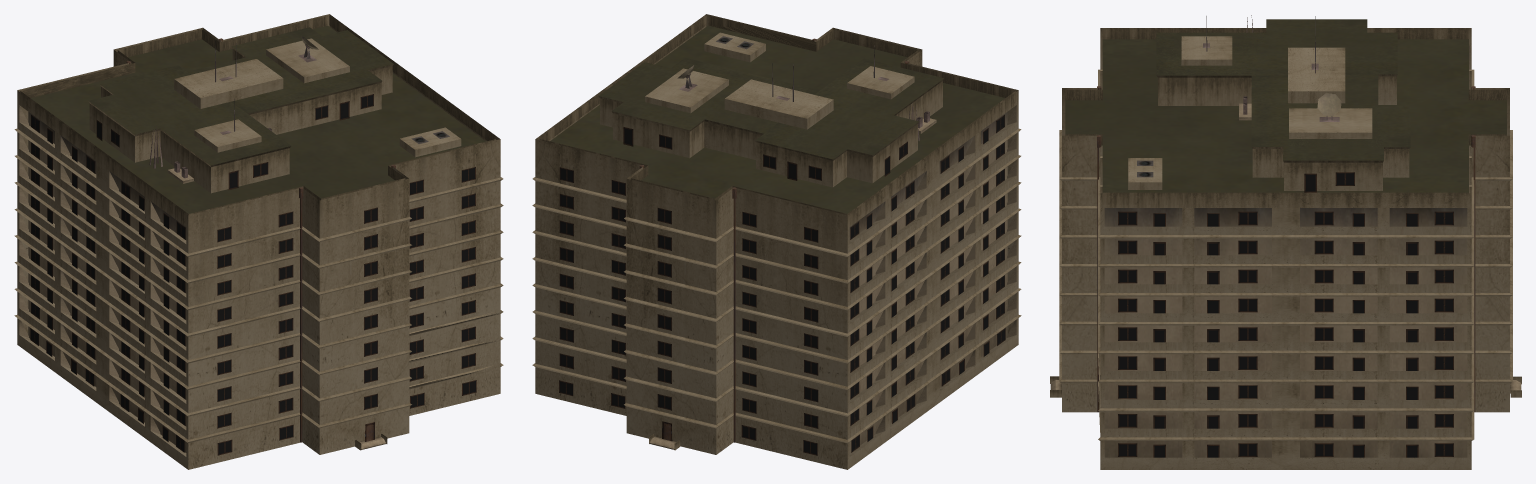
File: ORB_1_S9_Detail_2.fbx
3 renders of one model, left to right at view 1: azimuth 30°, elevation 25°; view 2: azimuth 150°, elevation 25°; view 3: azimuth 270°, elevation 25°, orthographic. The views are drawn at different scales.
Visible parts, largest first — view 1: ORB_1_S9_Detail_2; view 2: ORB_1_S9_Detail_2; view 3: ORB_1_S9_Detail_2.
Boxes of the visible parts, x1,y1,x2,y2 form: ORB_1_S9_Detail_2: (14,14,503,469); ORB_1_S9_Detail_2: (532,14,1021,469); ORB_1_S9_Detail_2: (1050,15,1521,469).
Size of the model in its own units: 3491 by 3452 by 4154.
